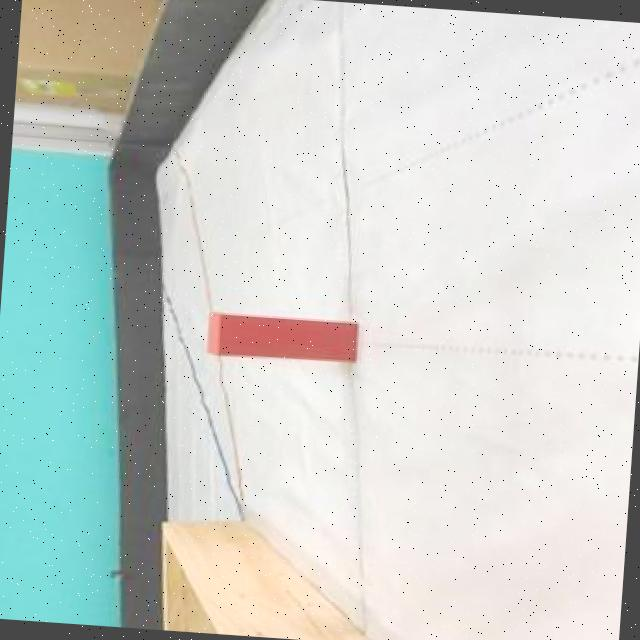redbox: (202, 311, 358, 364)
